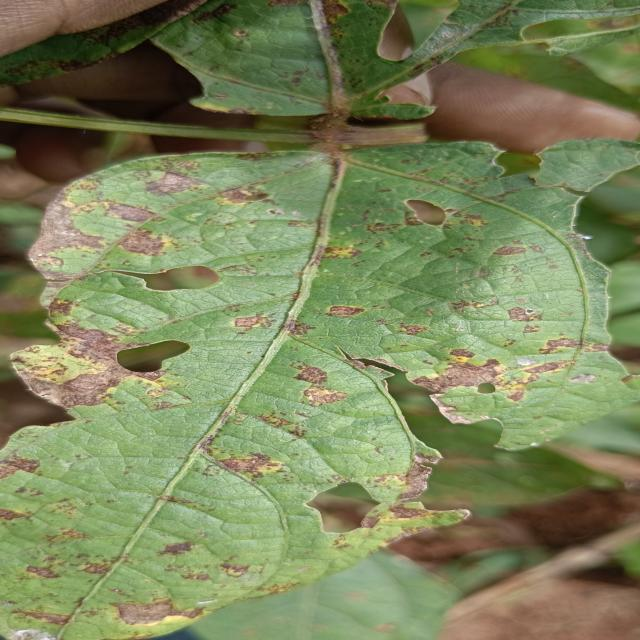Black gram_leaf spot: (0, 137, 640, 640), (133, 0, 629, 112)
